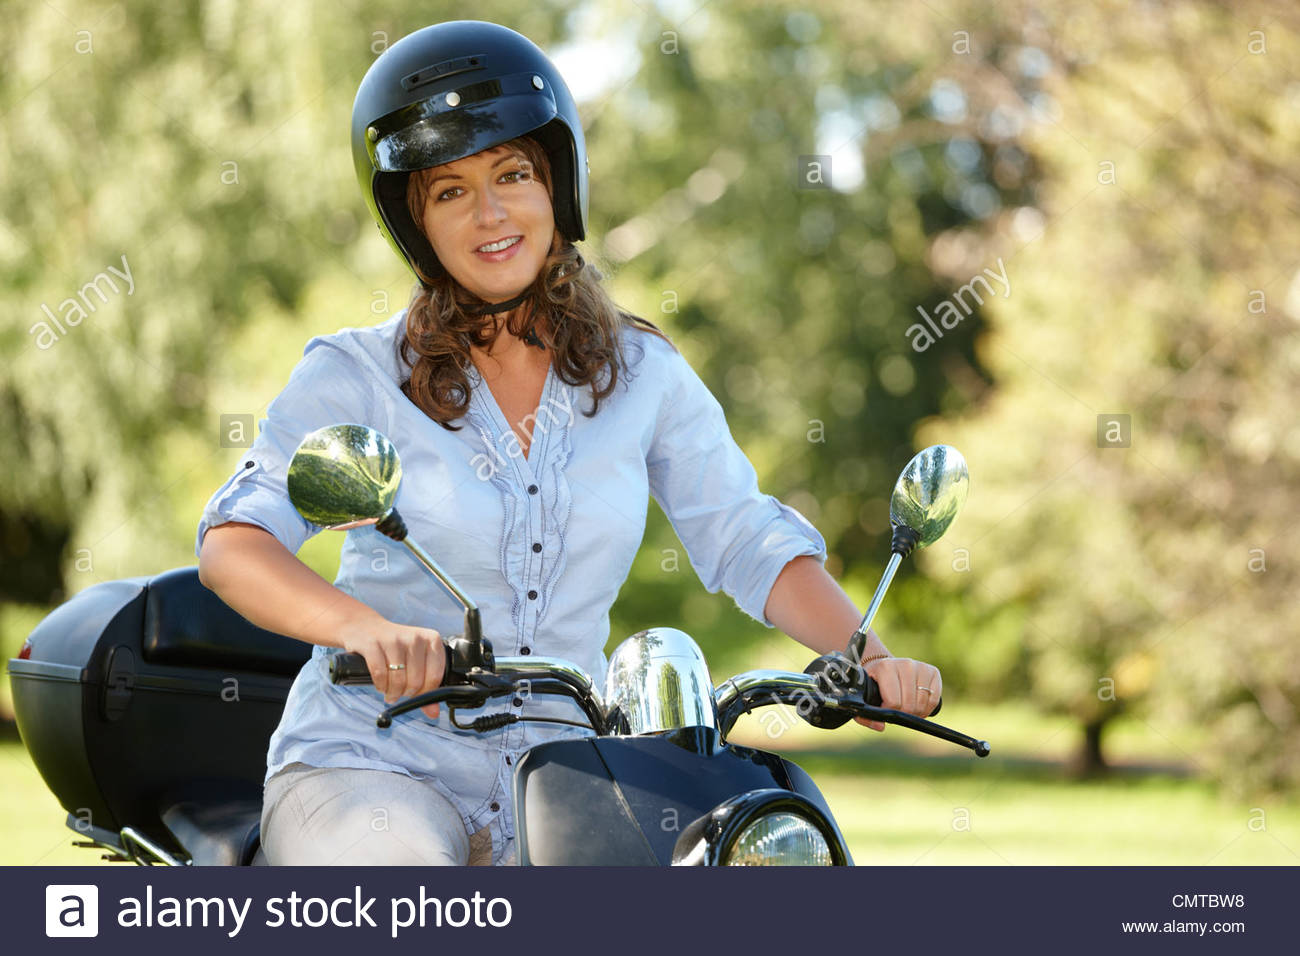with_helmet: (345, 16, 597, 265)
